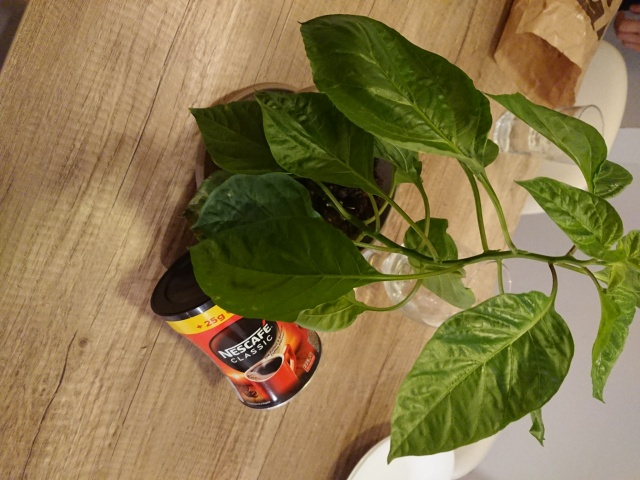Nescafe Classic 225g: (148, 239, 326, 414)
